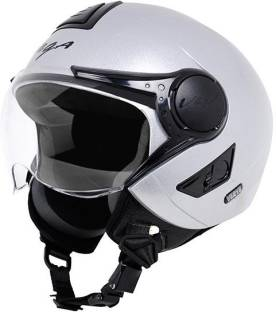with_helmet: (9, 2, 275, 228)
